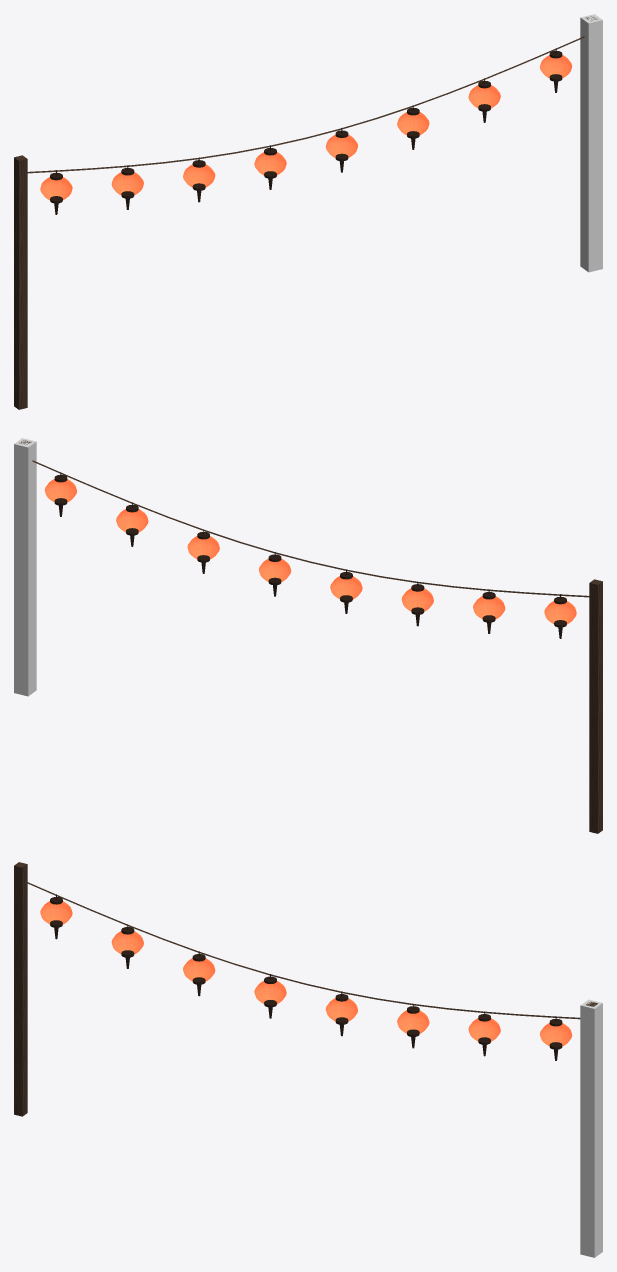
The model's file is lantern_line.glb.
3 views of the same model, one above another, from view 1: azimuth 30°, elevation 25°; view 2: azimuth 150°, elevation 25°; view 3: azimuth 330°, elevation 25° (orthographic).
Visible parts, largest first — view 1: Pole-convcolonly.001, Poles, Lanterns, LanternFrames; view 2: Pole-convcolonly.001, Poles, Lanterns, LanternFrames; view 3: Pole-convcolonly.001, Poles, Lanterns, LanternFrames.
Boxes of the visible parts, x1,y1,x2,y2 form: Pole-convcolonly.001: (580, 14, 602, 272); Poles: (14, 16, 597, 409); Lanterns: (40, 55, 572, 200); LanternFrames: (50, 48, 562, 214); Pole-convcolonly.001: (14, 438, 36, 696); Poles: (19, 440, 602, 833); Lanterns: (44, 479, 576, 624); LanternFrames: (54, 472, 566, 638); Pole-convcolonly.001: (580, 999, 602, 1257); Poles: (14, 862, 597, 1116); Lanterns: (40, 901, 572, 1046); LanternFrames: (50, 894, 562, 1060).
Size of what is drawn, in the model's own units: 12.24 by 5 by 0.5791.
Materials: 3 (2 with a texture image).
